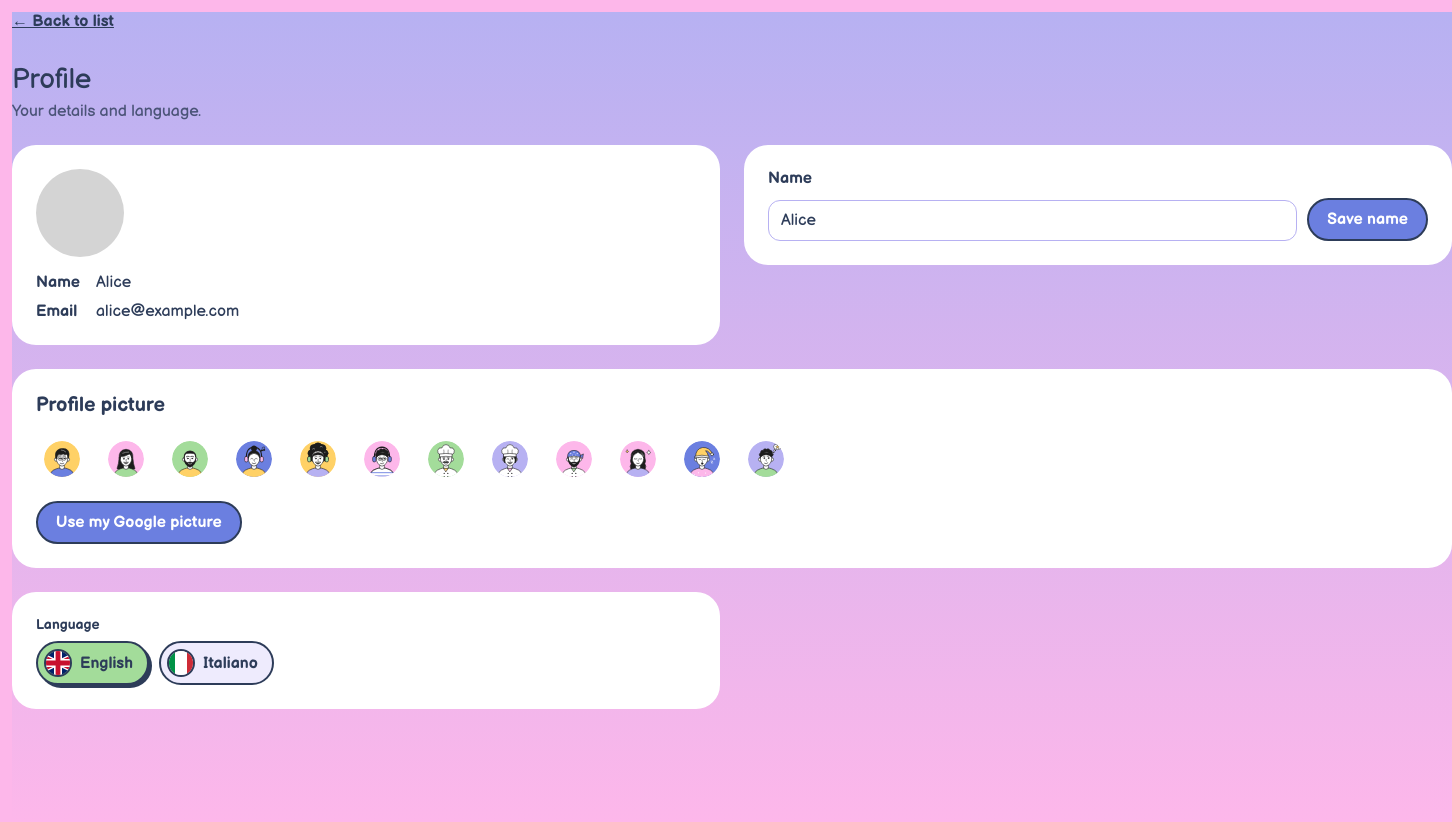
Scenario: ProfileScreen › lets the user pick the app language from the profile
Expected: the radio button labelled "English" is checked, [36,641,149,685]
Click the radio button labelled "Italiano" at (216, 663), box [159,641,274,685]
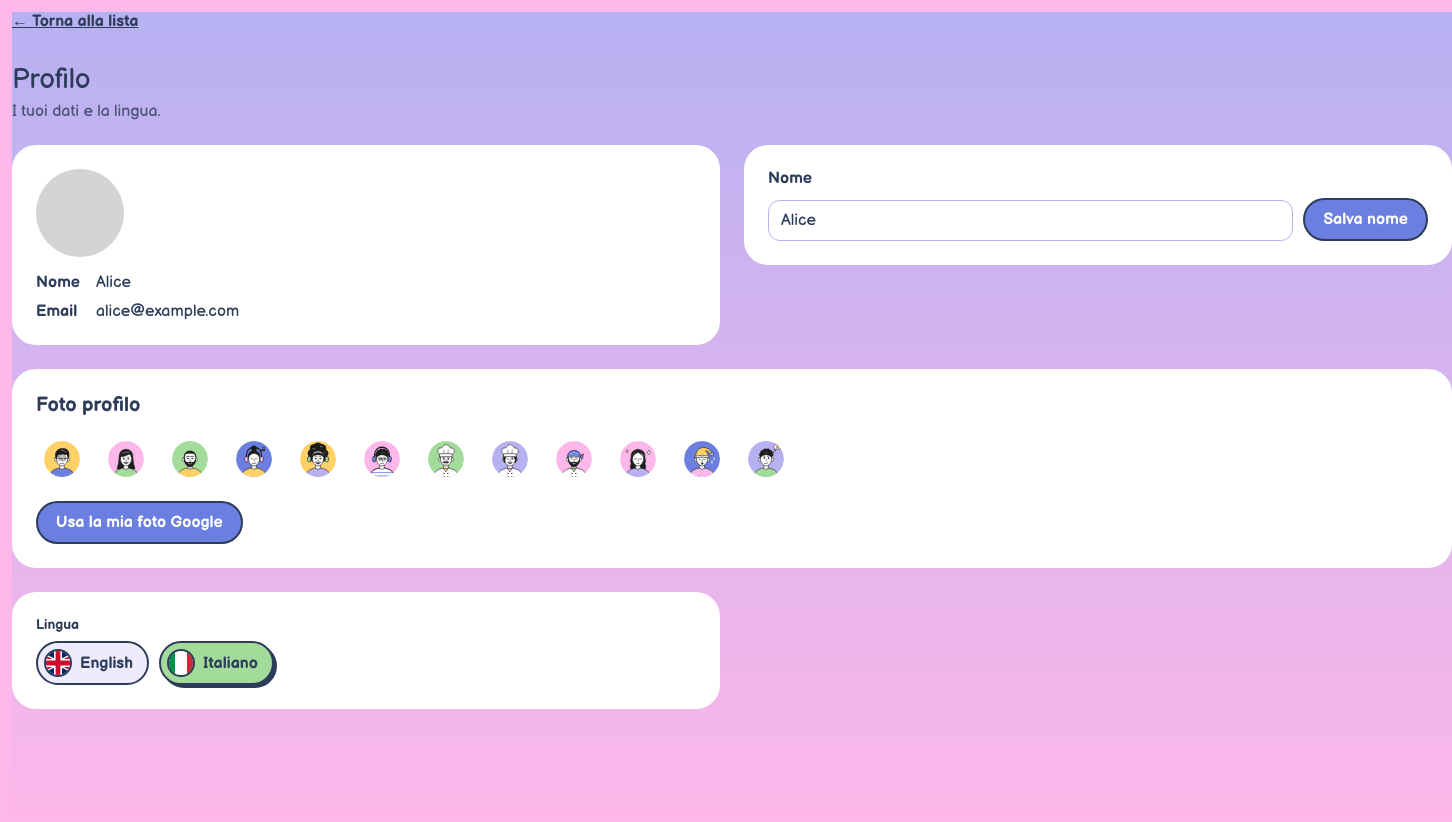
Now the radio button labelled "Italiano" is checked, box [159,641,274,685]
Now the heading "Profilo" is shown, box [12,63,91,96]
